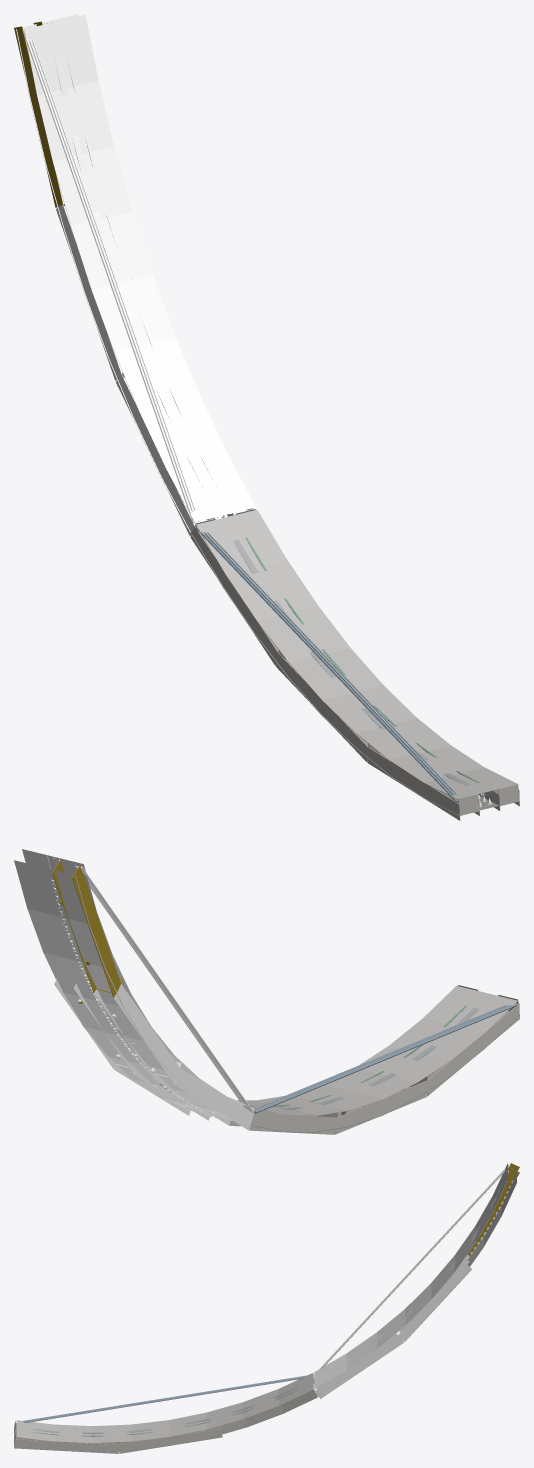
The model's file is xuanshu_interior_C52.glb.
The picture shows the model from 3 angles, top to bottom: view 1: azimuth 30°, elevation 25°; view 2: azimuth 150°, elevation 25°; view 3: azimuth 270°, elevation 25°; orthographic projection. The views are drawn at different scales.
Visible parts, largest first — view 1: UNIT-REC-004_S0; view 2: UNIT-REC-004_S0; view 3: UNIT-REC-004_S0.
Boxes of the visible parts, bbox=[...] form: UNIT-REC-004_S0: bbox=[14, 14, 519, 820]; UNIT-REC-004_S0: bbox=[14, 849, 519, 1134]; UNIT-REC-004_S0: bbox=[14, 1163, 519, 1453].
Size of the model in its own units: 13.31 by 100 by 167.
